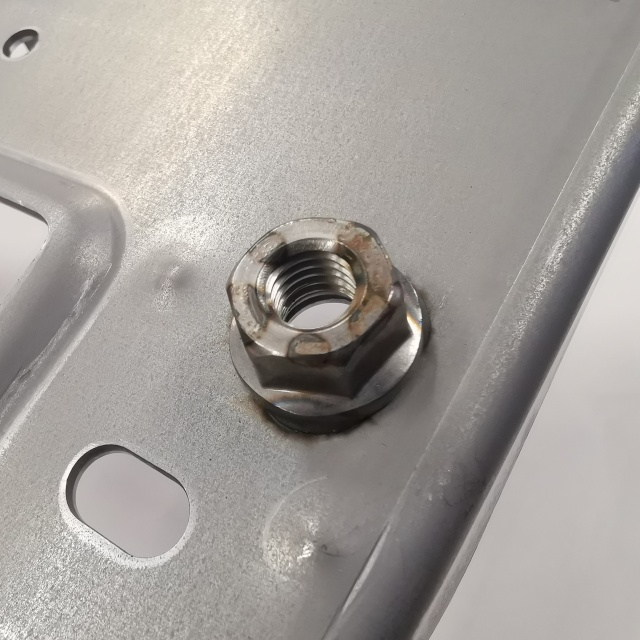dog: (218, 212, 437, 439)
